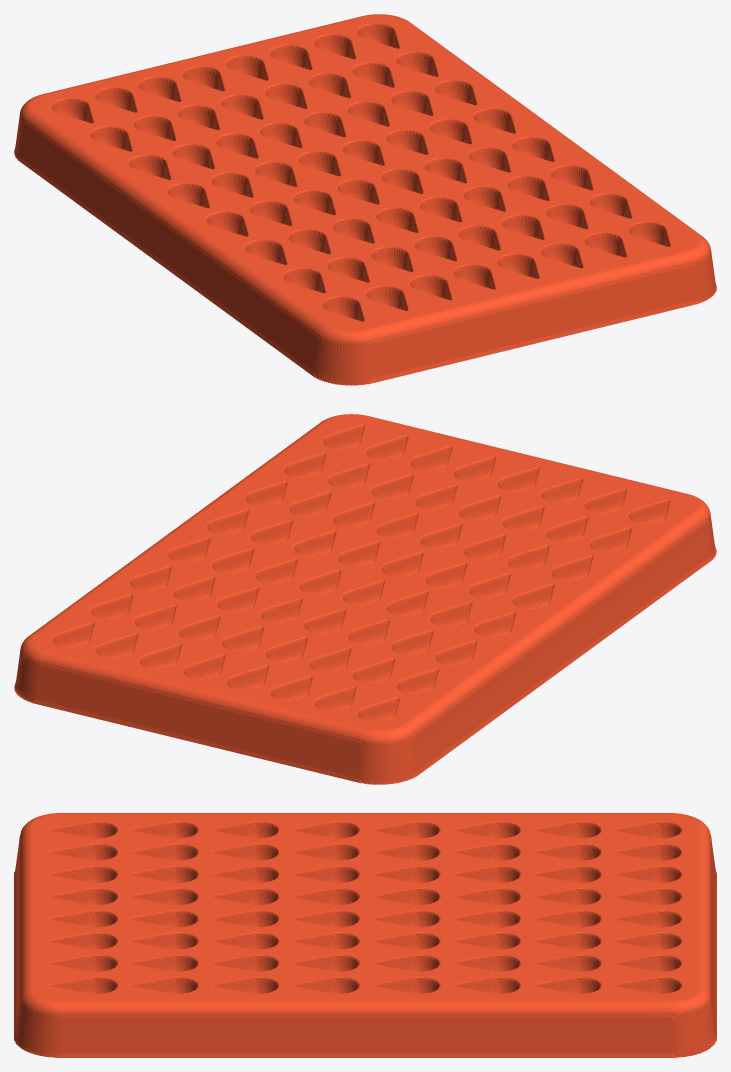
File: mold.glb
The picture shows the model from 3 angles, top to bottom: view 1: azimuth 30°, elevation 25°; view 2: azimuth 150°, elevation 25°; view 3: azimuth 270°, elevation 25°; orthographic projection. The views are drawn at different scales.
Visible parts, largest first — view 1: geometry_0; view 2: geometry_0; view 3: geometry_0.
Boxes of the visible parts, x1,y1,x2,y2 form: geometry_0: [14, 14, 716, 385]; geometry_0: [14, 414, 716, 784]; geometry_0: [14, 813, 716, 1057].
Bounding box in the file's own units: 0.0923 × 0.0105 × 0.1355.
